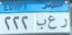2: (20, 15, 29, 30), (12, 15, 20, 31), (4, 15, 12, 31)
ain: (47, 15, 57, 30)
baa: (36, 18, 46, 30)
raa: (59, 17, 68, 29)
